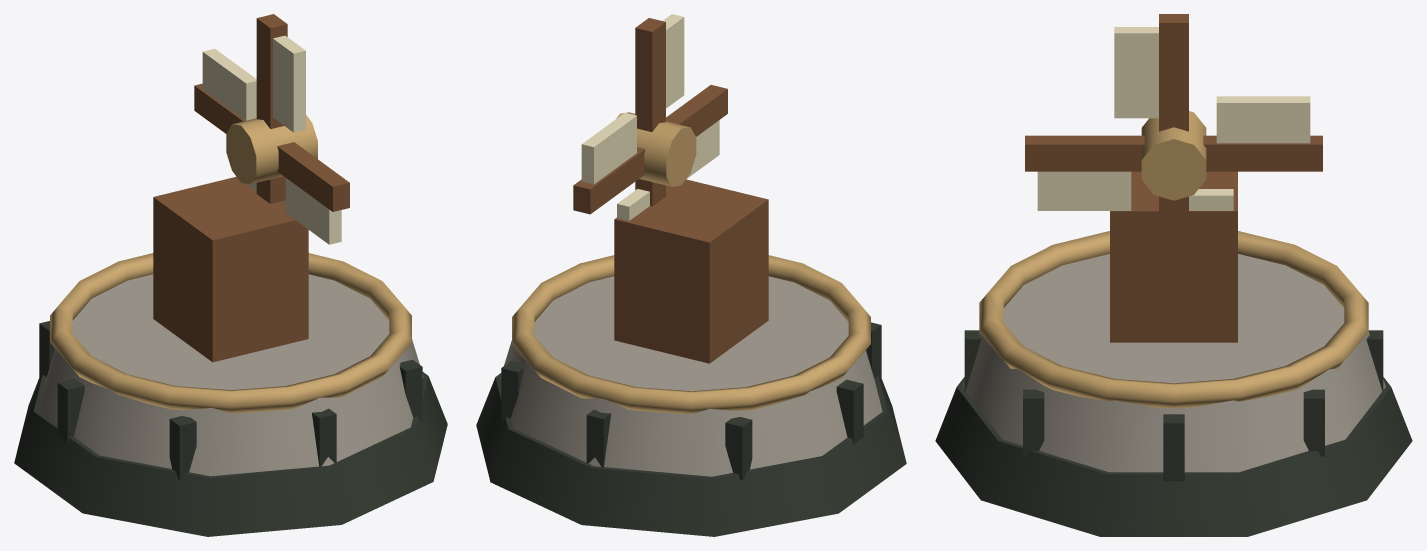
Rendered from tower_wind.glb.
3 renders of one model, left to right at view 1: azimuth 30°, elevation 25°; view 2: azimuth 150°, elevation 25°; view 3: azimuth 270°, elevation 25°, orthographic. The views are drawn at different scales.
Visible parts, largest first — view 1: stone_1, foot_0, mill_11, rim_2, hub_12, sail_16, spar_17, sail_14, spar_15, sail_18, mortar_6, mortar_7 (+5 smaller); view 2: stone_1, foot_0, mill_11, rim_2, spar_15, hub_12, sail_14, spar_13, spar_17, sail_16, mortar_8, mortar_7 (+5 smaller); view 3: stone_1, foot_0, rim_2, mill_11, hub_12, sail_14, spar_17, sail_16, sail_18, spar_13, spar_15, spar_19 (+6 smaller).
Boxes of the visible parts, x1=… form: stone_1: x1=38, y1=274, x2=423, y2=476; foot_0: x1=14, y1=372, x2=447, y2=536; mill_11: x1=153, y1=176, x2=308, y2=362; rim_2: x1=50, y1=253, x2=411, y2=413; hub_12: x1=226, y1=115, x2=317, y2=184; sail_16: x1=273, y1=35, x2=305, y2=132; spar_17: x1=277, y1=142, x2=349, y2=211; sail_14: x1=202, y1=48, x2=256, y2=120; spar_15: x1=256, y1=14, x2=287, y2=129; sail_18: x1=285, y1=178, x2=341, y2=244; mortar_6: x1=169, y1=416, x2=196, y2=479; mortar_7: x1=57, y1=378, x2=84, y2=443; stone_1: x1=500, y1=276, x2=882, y2=476; foot_0: x1=476, y1=373, x2=906, y2=536; mill_11: x1=614, y1=179, x2=768, y2=363; rim_2: x1=512, y1=255, x2=870, y2=414; spar_15: x1=635, y1=18, x2=665, y2=131; hub_12: x1=616, y1=112, x2=696, y2=186; sail_14: x1=581, y1=112, x2=636, y2=184; spar_13: x1=573, y1=147, x2=645, y2=214; spar_17: x1=666, y1=85, x2=727, y2=136; sail_16: x1=663, y1=14, x2=684, y2=108; mortar_8: x1=725, y1=417, x2=752, y2=480; mortar_7: x1=836, y1=379, x2=863, y2=444; stone_1: x1=962, y1=254, x2=1385, y2=472; foot_0: x1=935, y1=377, x2=1412, y2=536; rim_2: x1=979, y1=231, x2=1368, y2=408; mill_11: x1=1110, y1=171, x2=1237, y2=342; hub_12: x1=1141, y1=111, x2=1206, y2=200; sail_14: x1=1216, y1=96, x2=1310, y2=143; spar_17: x1=1025, y1=135, x2=1144, y2=171; sail_16: x1=1114, y1=27, x2=1158, y2=118; sail_18: x1=1037, y1=171, x2=1131, y2=210; spar_13: x1=1203, y1=135, x2=1322, y2=171; spar_15: x1=1159, y1=14, x2=1188, y2=131; spar_19: x1=1159, y1=196, x2=1188, y2=293.
Size of the model in its own units: 0.5326 by 0.575 by 0.56.
